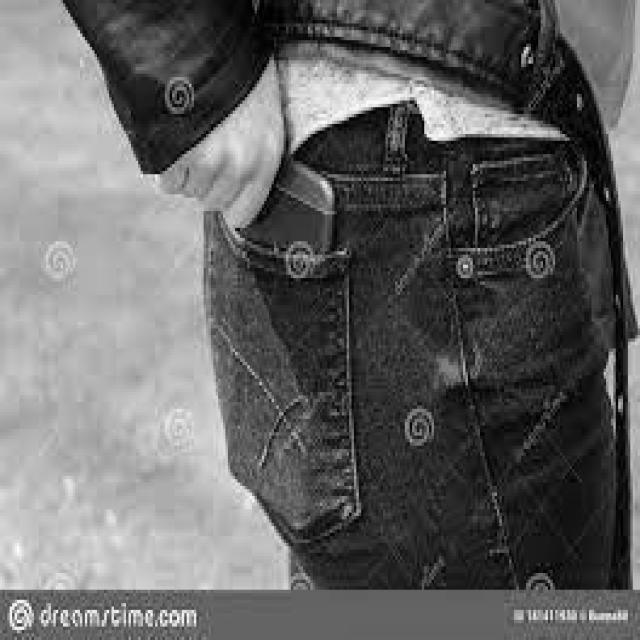No gun_phone: (239, 163, 337, 258)
